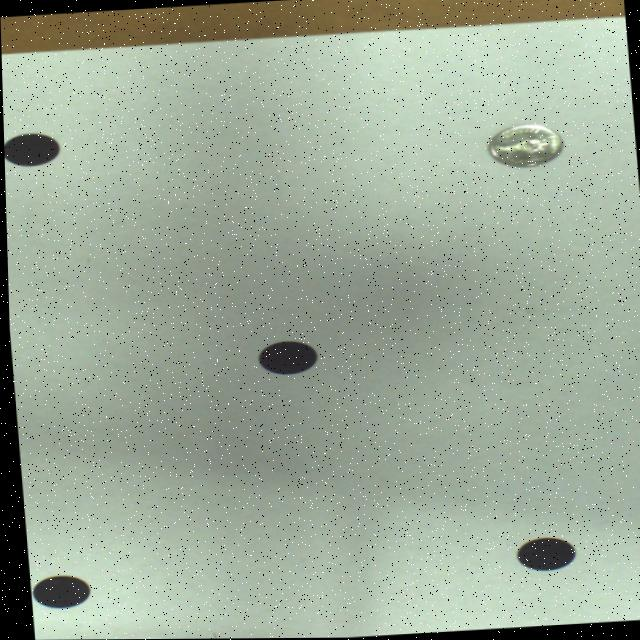space: (29, 575, 87, 608), (256, 341, 314, 374), (513, 538, 571, 571), (3, 133, 59, 165)
tail1bath: (487, 124, 562, 167)
